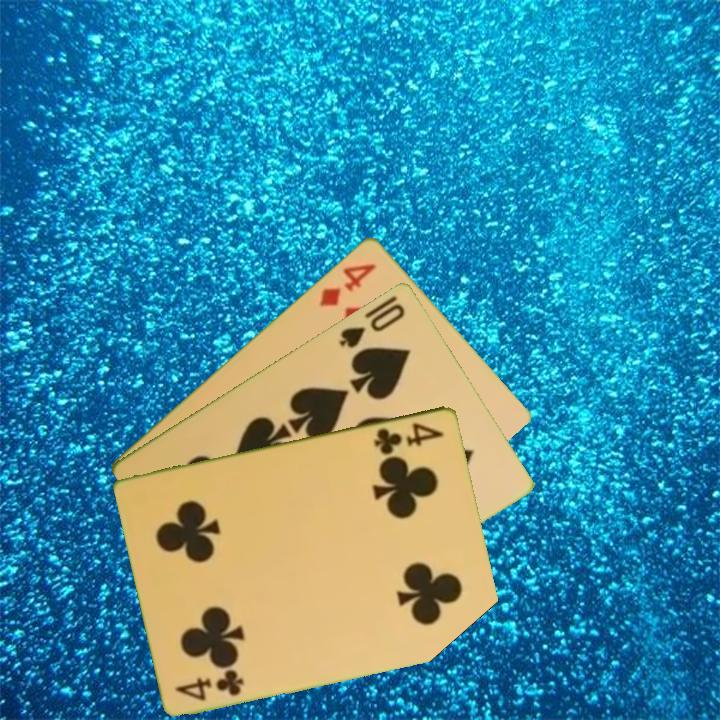10s: (335, 299, 408, 351)
4c: (370, 418, 447, 457), (171, 666, 247, 703)
4d: (316, 259, 380, 309)
